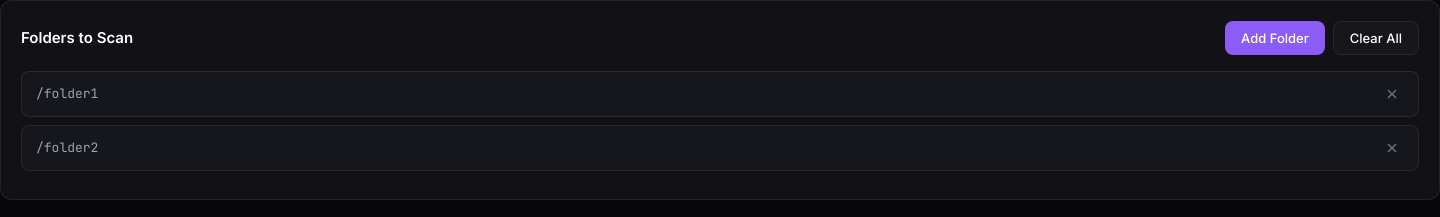
Test case: FolderSelector › should clear all folders when Clear All is clicked
What coordinates should you click on to do the following:
click the button "Clear All"
I would click on:
 (1376, 38)
Its box is [1333,21,1419,55].
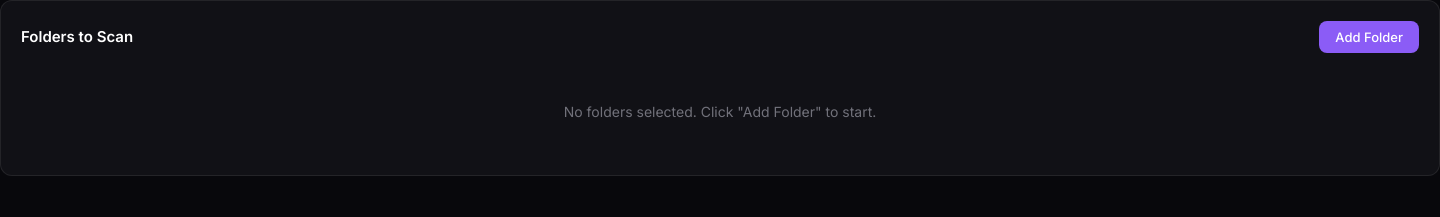
Now the text "/folder1" is gone
Now the text "/folder2" is gone
Now the text "No folders selected. Click \"Add Folder\" to start." is shown, box [564,103,876,120]
